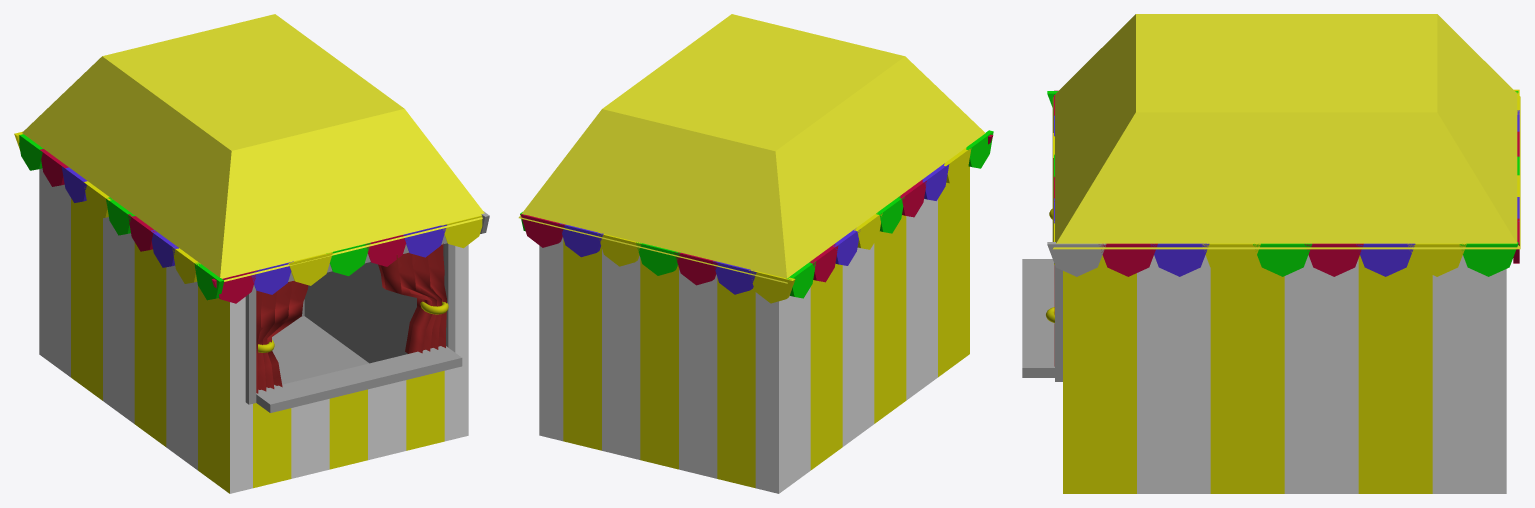
The model's file is TeatroAmarillo5.fbx.
The picture shows the model from 3 angles, left to right: view 1: azimuth 30°, elevation 25°; view 2: azimuth 150°, elevation 25°; view 3: azimuth 270°, elevation 25°; orthographic projection. The views are drawn at different scales.
Parts seen in each view (by area): view 1: Techo1, Escenario, Fondo, R_Curtain, L_Curtain, pCylinder30, pCylinder31, pCylinder33, pCylinder29, pCylinder32, pCylinder34, pCylinder28 (+9 smaller); view 2: Escenario, Techo1, pCylinder27, pCylinder21, pCylinder24, pCylinder25, pCylinder26, pCylinder23, pCylinder22, pCylinder16, pCylinder14, pCylinder18 (+6 smaller); view 3: Escenario, Techo1, pCylinder1, pCylinder9, pCylinder4, pCylinder2, pCylinder6, pCylinder8, pCylinder5, pCylinder7, pCylinder3.
Boxes of the visible parts, left/top/right/bottom form: Techo1: left=22, top=14, right=484, bottom=281; Escenario: left=39, top=168, right=468, bottom=493; Fondo: left=258, top=244, right=444, bottom=390; R_Curtain: left=378, top=243, right=446, bottom=353; L_Curtain: left=256, top=281, right=308, bottom=393; pCylinder30: left=288, top=252, right=332, bottom=285; pCylinder31: left=403, top=224, right=446, bottom=257; pCylinder33: left=326, top=242, right=370, bottom=276; pCylinder29: left=250, top=261, right=293, bottom=294; pCylinder32: left=441, top=215, right=482, bottom=248; pCylinder34: left=365, top=235, right=406, bottom=266; pCylinder28: left=211, top=270, right=257, bottom=303; Escenario: left=539, top=166, right=969, bottom=493; Techo1: left=518, top=14, right=985, bottom=283; pCylinder27: left=749, top=270, right=795, bottom=303; pCylinder21: left=520, top=214, right=565, bottom=247; pCylinder24: left=636, top=242, right=680, bottom=275; pCylinder25: left=674, top=252, right=718, bottom=285; pCylinder26: left=713, top=261, right=756, bottom=294; pCylinder23: left=597, top=232, right=641, bottom=266; pCylinder22: left=559, top=223, right=603, bottom=257; pCylinder16: left=809, top=244, right=838, bottom=282; pCylinder14: left=876, top=195, right=904, bottom=233; pCylinder18: left=899, top=180, right=926, bottom=217; Escenario: left=1022, top=255, right=1506, bottom=493; Techo1: left=1052, top=14, right=1520, bottom=249; pCylinder1: left=1047, top=242, right=1106, bottom=276; pCylinder9: left=1459, top=242, right=1518, bottom=276; pCylinder4: left=1202, top=243, right=1260, bottom=276; pCylinder2: left=1099, top=243, right=1157, bottom=276; pCylinder6: left=1305, top=243, right=1363, bottom=276; pCylinder8: left=1407, top=243, right=1466, bottom=276; pCylinder5: left=1253, top=243, right=1312, bottom=276; pCylinder7: left=1356, top=243, right=1415, bottom=276; pCylinder3: left=1151, top=243, right=1209, bottom=276.
Bounding box in the file's own units: 15.98 × 17.42 × 21.66.
